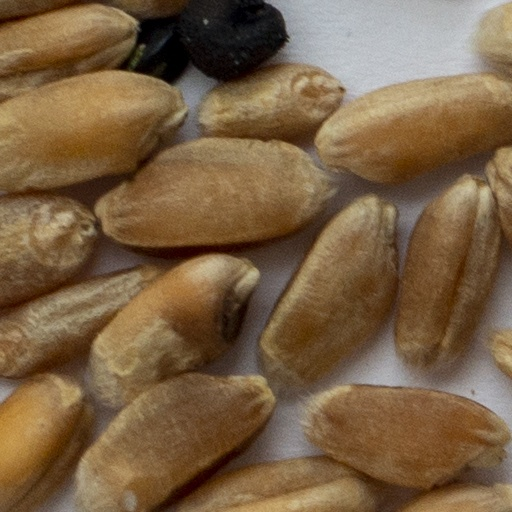Agrostemma-poly: (176, 0, 285, 79)
Fallopia-Convolvulus-poly: (132, 19, 186, 79)
